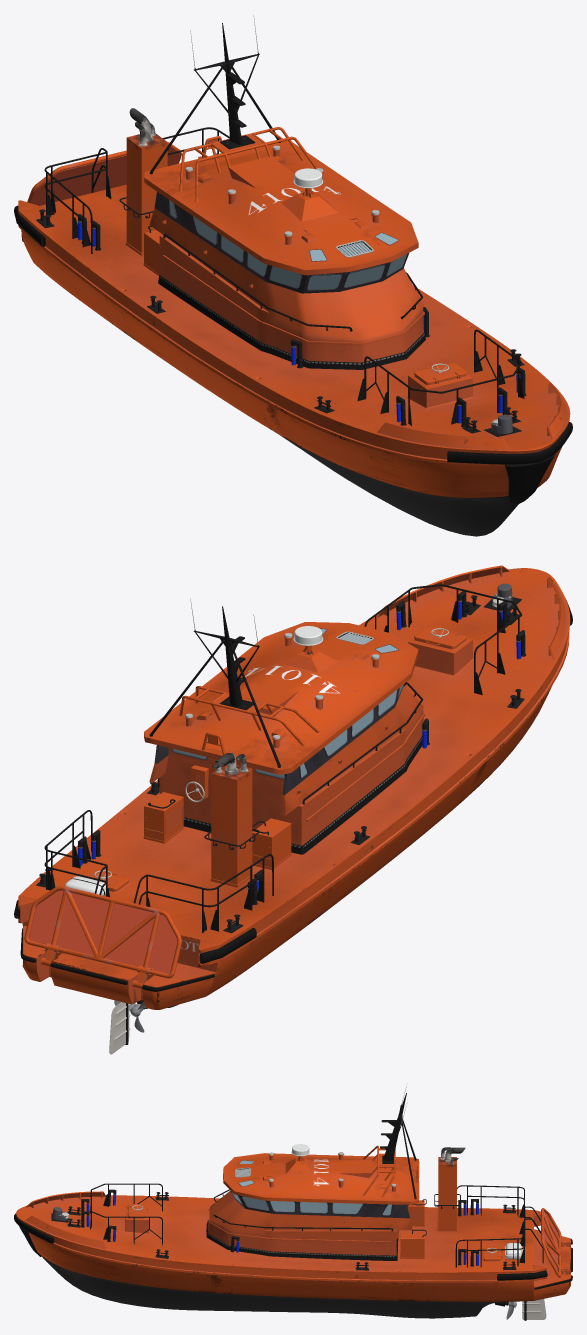
File: PilotShip.fbx
3 renders of one model, top to bottom at view 1: azimuth 30°, elevation 25°; view 2: azimuth 150°, elevation 25°; view 3: azimuth 270°, elevation 25°, orthographic. The views are drawn at different scales.
Parts seen in each view (by area): view 1: Pilot; view 2: Pilot; view 3: Pilot.
Part boxes in pixels (x1,y1,x2,y2): Pilot: (14, 15, 572, 536); Pilot: (14, 565, 572, 1054); Pilot: (14, 1083, 572, 1320).
Size of the model in its own units: 550 by 865 by 1925.
